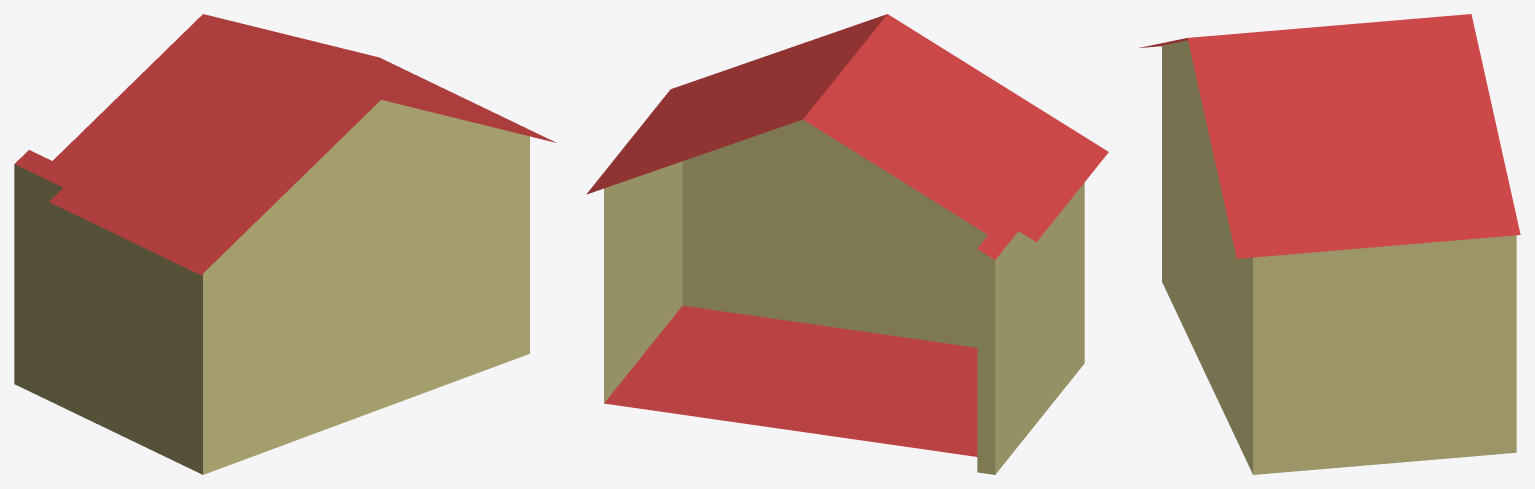
The picture shows the model from 3 angles, left to right: view 1: azimuth 30°, elevation 25°; view 2: azimuth 150°, elevation 25°; view 3: azimuth 270°, elevation 25°; orthographic projection. The views are drawn at different scales.
Bounding box in the file's own units: 13.08 × 9.17 × 9.06.
